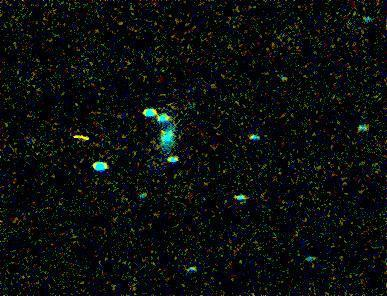star: (63, 113, 93, 143)
